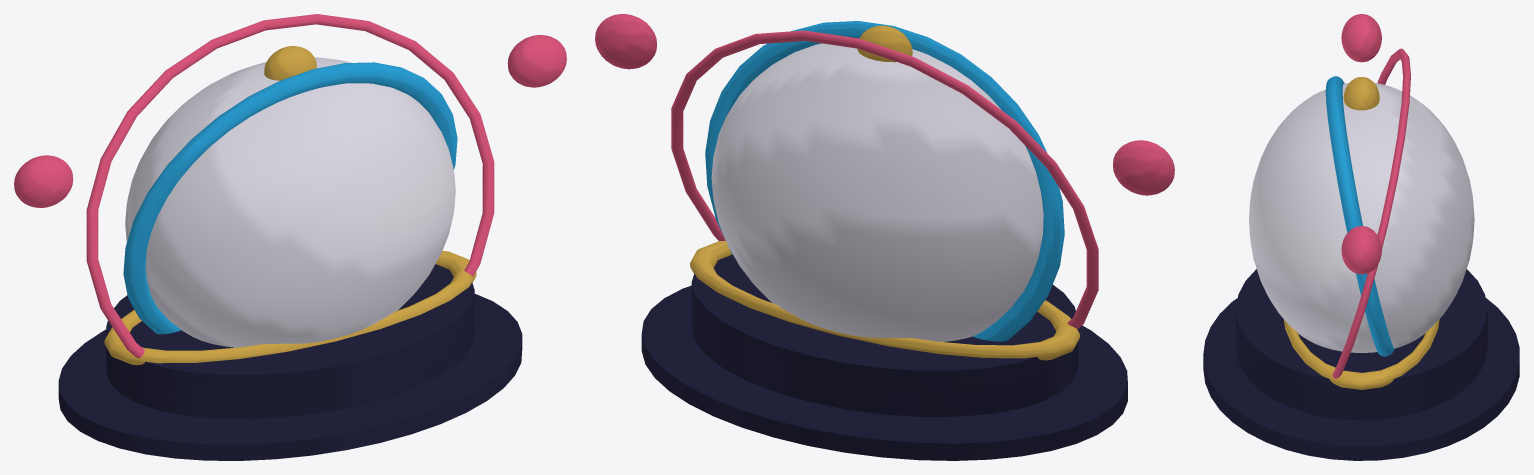
The model's file is 0037_天文图鉴_地球.glb.
3 views of the same model, side by side, from view 1: azimuth 30°, elevation 25°; view 2: azimuth 150°, elevation 25°; view 3: azimuth 270°, elevation 25° (orthographic). The views are drawn at different scales.
Parts seen in each view (by area): view 1: card_0037; view 2: card_0037; view 3: card_0037.
Boxes of the visible parts, x1,y1,x2,y2 form: card_0037: [14, 14, 566, 460]; card_0037: [595, 14, 1174, 460]; card_0037: [1203, 14, 1519, 460].
Bounding box in the file's own units: 1.67 × 1 × 0.9475.
